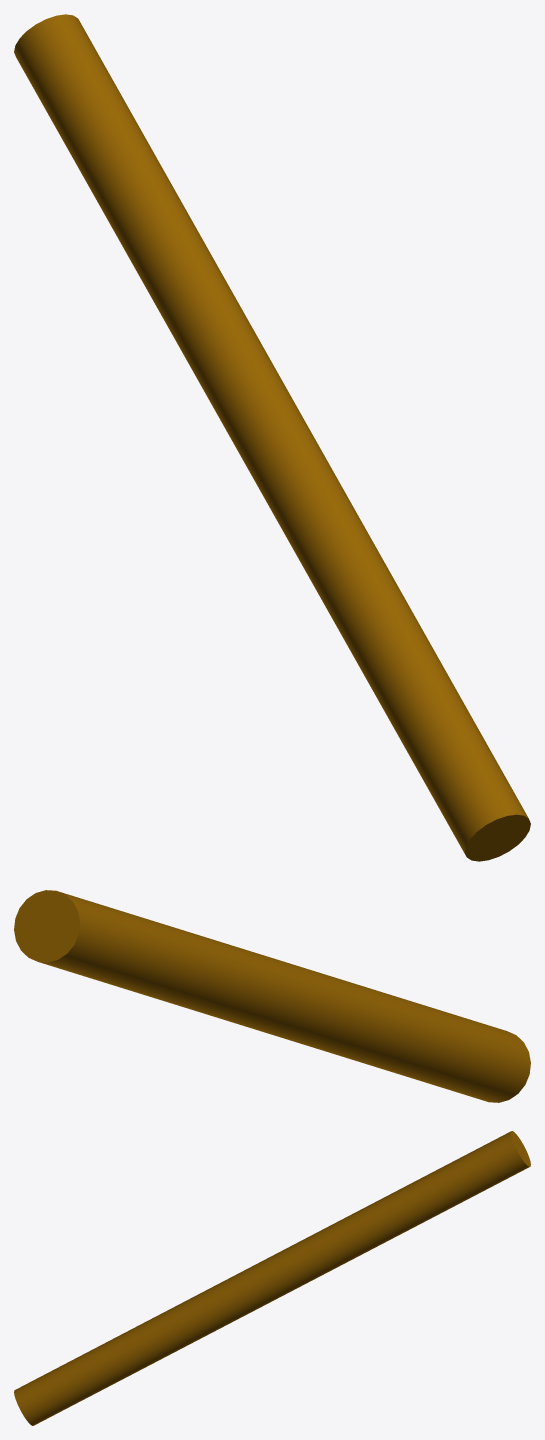
File: SM_Log.fbx
3 renders of one model, top to bottom at view 1: azimuth 30°, elevation 25°; view 2: azimuth 150°, elevation 25°; view 3: azimuth 270°, elevation 25°, orthographic. The views are drawn at different scales.
Visible parts, largest first — view 1: pCylinder1; view 2: pCylinder1; view 3: pCylinder1.
Part boxes in pixels (box(x1,y1,x2,y2)): pCylinder1: box(14, 14, 530, 861); pCylinder1: box(14, 890, 530, 1102); pCylinder1: box(14, 1131, 530, 1425).
Bounding box in the file's own units: 14.61 × 116 × 186.
